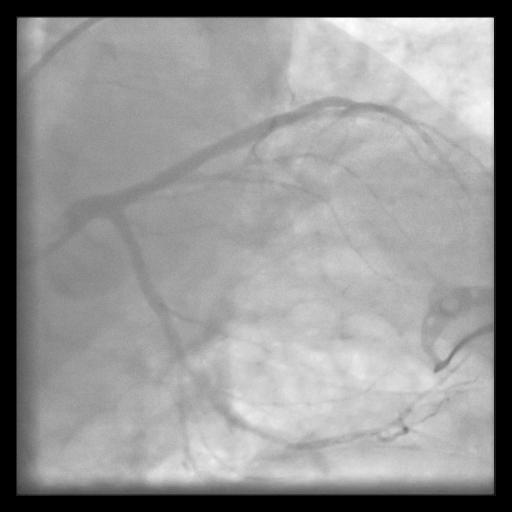Stenosis: (186, 363, 216, 408)
